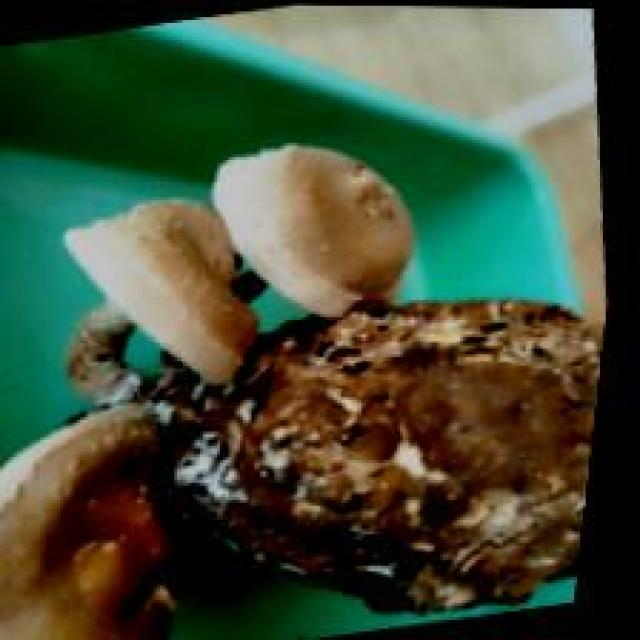field-mushroom: (209, 140, 414, 317)
